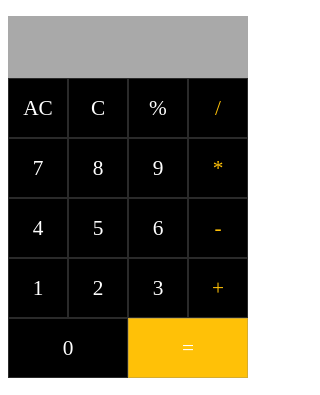
Test: Calculator › should check input value › should allow first entry of negative sign
The width and height of the screenshot is (320, 395).
Click the button with test id "calc-button--" at (218, 228), box [188,198,248,258]
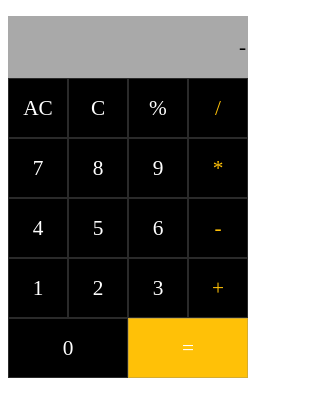
Click the button with test id "calc-button-2" at (98, 288), box [68,258,128,318]
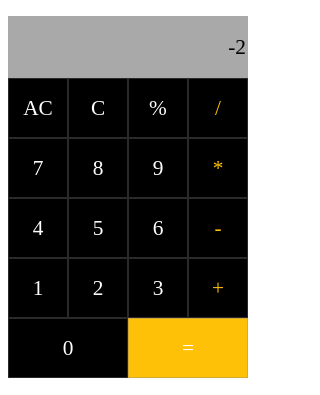
Now the field with test id "output-screen" holds "-2", box [8,16,248,78]
